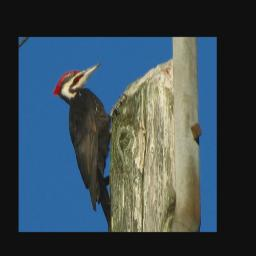Woodpecker: (49, 63, 123, 229)
